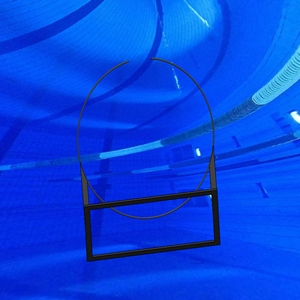circle: (76, 57, 222, 262)
